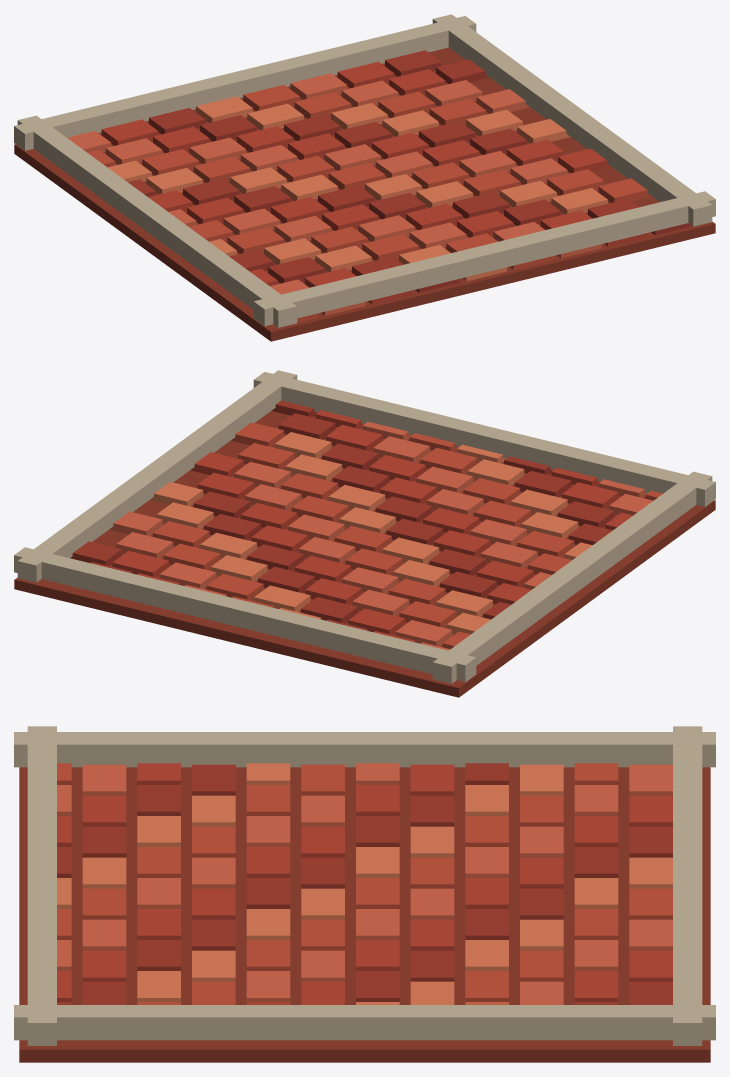
Rendered from vn_path_terracotta_2x2.glb.
3 renders of one model, top to bottom at view 1: azimuth 30°, elevation 25°; view 2: azimuth 150°, elevation 25°; view 3: azimuth 270°, elevation 25°, orthographic. The views are drawn at different scales.
Visible parts, largest first — view 1: Bed, EdgePZ_0, EdgePZ_1, EdgeNZ_0, EdgeNZ_1, EdgeNX_1, EdgeNX_0, EdgePX_1, EdgePX_0; view 2: Bed, EdgeNZ_0, EdgeNZ_1, EdgePZ_0, EdgePZ_1, EdgeNX_0, EdgePX_0, EdgePX_1, EdgeNX_1; view 3: Bed, EdgePX_0, EdgePX_1, EdgeNX_0, EdgeNX_1, EdgeNZ_1, EdgePZ_1, EdgeNZ_0, EdgePZ_0.
Boxes of the visible parts, x1=… form: Bed: x1=14, y1=47, x2=715, y2=341; EdgePZ_0: x1=253, y1=244, x2=498, y2=326; EdgePZ_1: x1=472, y1=191, x2=715, y2=268; EdgeNZ_0: x1=14, y1=69, x2=259, y2=150; EdgeNZ_1: x1=232, y1=16, x2=476, y2=97; EdgeNX_1: x1=143, y1=207, x2=297, y2=327; EdgeNX_0: x1=17, y1=115, x2=170, y2=235; EdgePX_1: x1=558, y1=108, x2=712, y2=226; EdgePX_0: x1=432, y1=14, x2=586, y2=133; Bed: x1=14, y1=400, x2=715, y2=697; EdgeNZ_0: x1=231, y1=600, x2=476, y2=682; EdgeNZ_1: x1=14, y1=547, x2=257, y2=626; EdgePZ_0: x1=470, y1=425, x2=715, y2=506; EdgePZ_1: x1=253, y1=372, x2=496, y2=450; EdgeNX_0: x1=432, y1=563, x2=586, y2=683; EdgePX_0: x1=17, y1=463, x2=171, y2=582; EdgePX_1: x1=143, y1=370, x2=297, y2=482; EdgeNX_1: x1=566, y1=471, x2=712, y2=590; Bed: x1=19, y1=763, x2=710, y2=1062; EdgePX_0: x1=351, y1=1005, x2=715, y2=1040; EdgePX_1: x1=14, y1=1005, x2=378, y2=1040; EdgeNX_0: x1=351, y1=732, x2=715, y2=767; EdgeNX_1: x1=14, y1=732, x2=378, y2=767; EdgeNZ_1: x1=673, y1=880, x2=702, y2=1045; EdgePZ_1: x1=27, y1=880, x2=56, y2=1045; EdgeNZ_0: x1=673, y1=726, x2=702, y2=880; EdgePZ_0: x1=27, y1=726, x2=56, y2=880.
Bounding box in the file's own units: 1.39 × 0.091 × 1.39.
